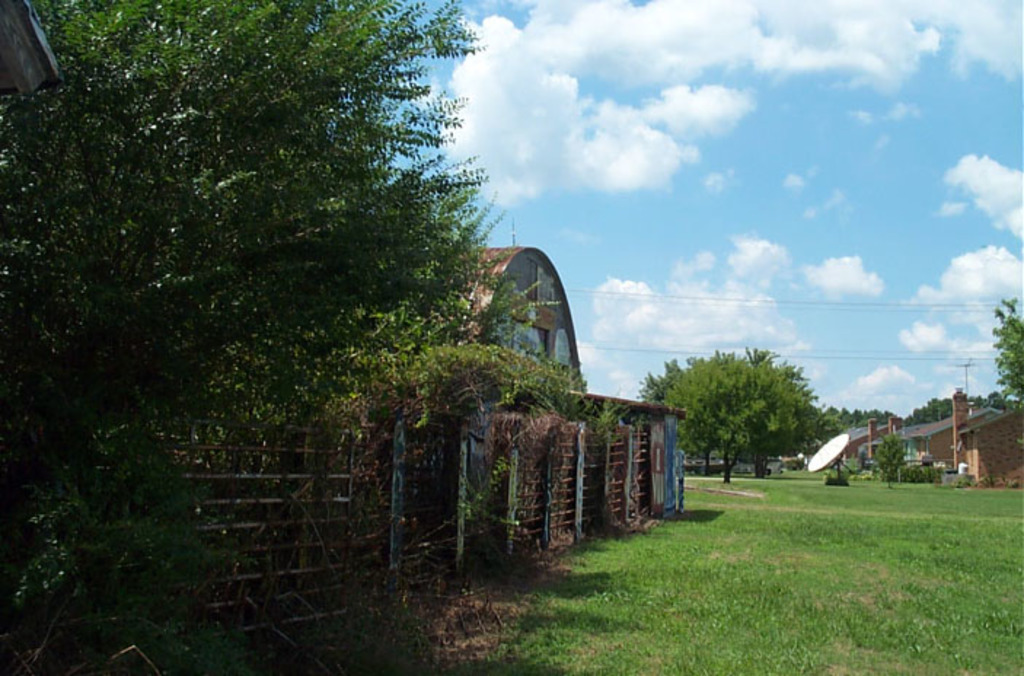Tree: (0, 0, 632, 673), (630, 340, 847, 483), (987, 294, 1022, 409)
